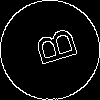B: (25, 25, 78, 70)
